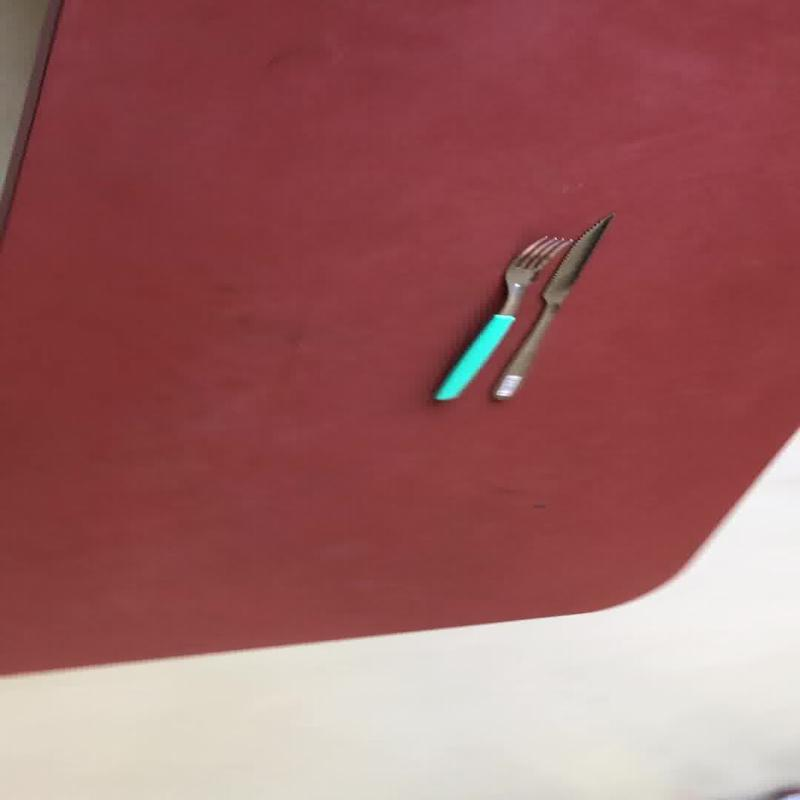fork: (431, 233, 572, 401), (489, 212, 613, 400)
knife: (489, 212, 613, 400)
